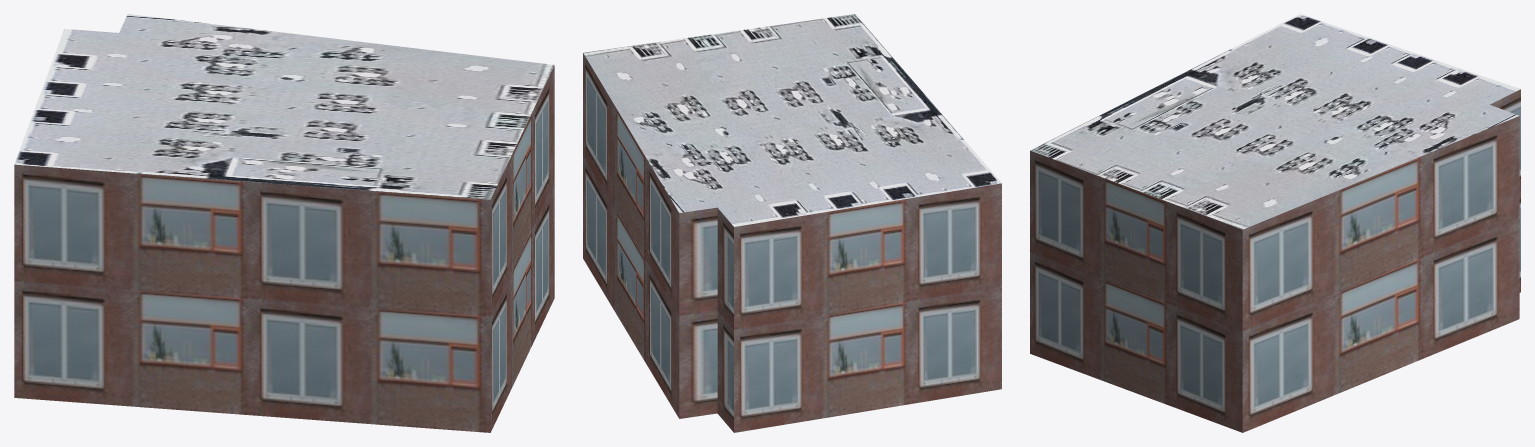
Rendered from ResTex__4278.fbx.
3 renders of one model, left to right at view 1: azimuth 30°, elevation 25°; view 2: azimuth 150°, elevation 25°; view 3: azimuth 270°, elevation 25°, orthographic. The views are drawn at different scales.
Parts seen in each view (by area): view 1: CityEngineMaterial_19_m, CityEngineMaterial_15_m; view 2: CityEngineMaterial_19_m, CityEngineMaterial_15_m; view 3: CityEngineMaterial_19_m, CityEngineMaterial_15_m.
Part boxes in pixels (x1=…): CityEngineMaterial_19_m: x1=14, y1=65, x2=554, y2=432; CityEngineMaterial_15_m: x1=14, y1=14, x2=554, y2=199; CityEngineMaterial_19_m: x1=583, y1=53, x2=1001, y2=432; CityEngineMaterial_15_m: x1=583, y1=14, x2=1001, y2=226; CityEngineMaterial_19_m: x1=1030, y1=89, x2=1520, y2=432; CityEngineMaterial_15_m: x1=1030, y1=14, x2=1520, y2=229.
Bounding box in the file's own units: 13.66 × 6 × 13.13.
Materials: 2 (2 with a texture image).
